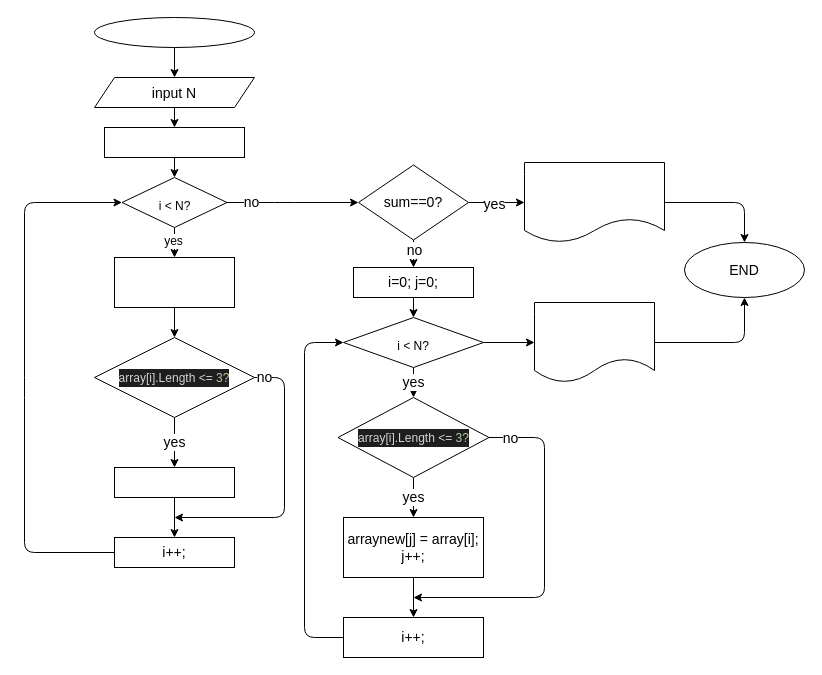
Some shapes in this 822 by 675 pixel diagram are drawn without their labels. Here are the shapes that lost their labels. From the top down, the box of each, then its label:
(94, 16, 254, 48): start
(104, 126, 244, 158): i =0;
(524, 162, 664, 242): Print "[]"
(114, 256, 234, 308): input array[i];
(534, 302, 654, 382): Print arraynew[]
(114, 466, 234, 498): sum++;
